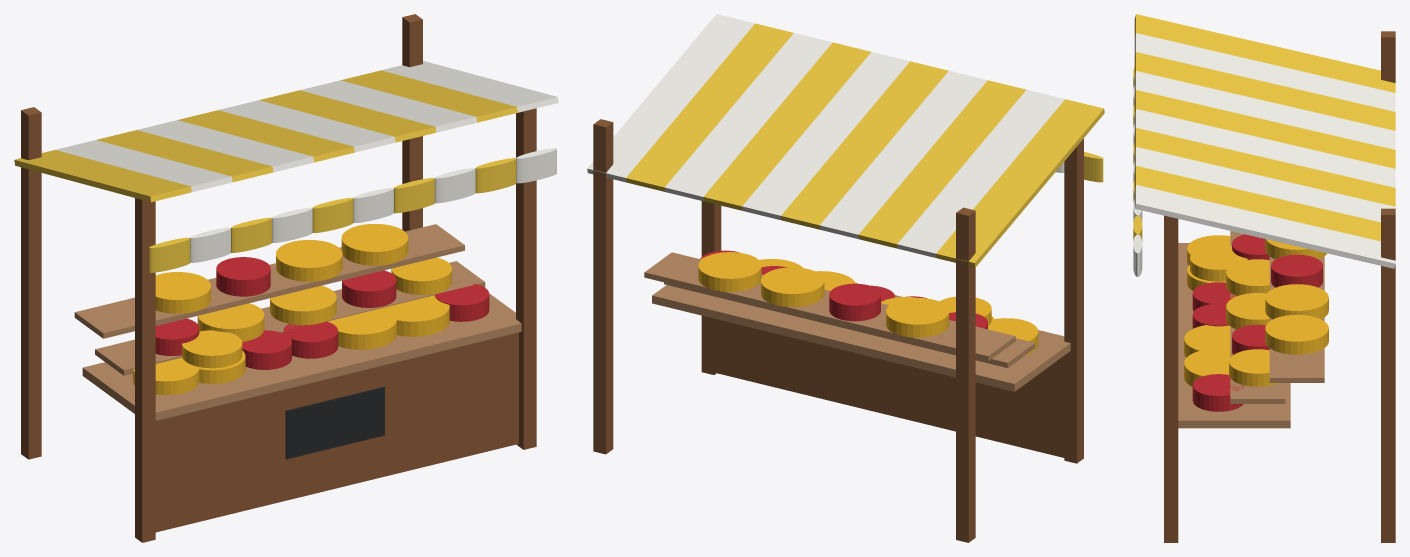
File: market-stall-cheese.glb
3 renders of one model, left to right at view 1: azimuth 30°, elevation 25°; view 2: azimuth 150°, elevation 25°; view 3: azimuth 270°, elevation 25°, orthographic. The views are drawn at different scales.
Visible parts, largest first — view 1: Cube.005, Cube.004, Cube.001, Cube, Cube.002, Cube.007, Cube.008, Cube.009, Cube.013, Cube.014, Cube.017, Cube.010 (+34 smaller); view 2: Cube.005, Cube.004, Cube.013, Cube.016, Cube.017, Cube.011, Cube.014, Cube.015, Cube.012, Cube.009, Cube.010, Cube.018 (+11 smaller); view 3: Cube.018, Cube.012, Cube.011, Cube.013, Cube.010, Cube.015, Cube.014, Cube.009, Cube.016, Cube.003, Cube.002, Cube.017 (+21 smaller).
Part boxes in pixels (left/top/right/bottom): Cube.005: left=155, top=332, right=518, bottom=532; Cube.004: left=82, top=293, right=521, bottom=420; Cube.001: left=21, top=107, right=41, bottom=459; Cube: left=135, top=198, right=155, bottom=542; Cube.002: left=516, top=108, right=536, bottom=449; Cube.007: left=74, top=224, right=464, bottom=338; Cube.008: left=285, top=386, right=384, bottom=459; Cube.009: left=14, top=150, right=191, bottom=202; Cube.013: left=178, top=110, right=354, bottom=162; Cube.014: left=218, top=100, right=395, bottom=152; Cube.017: left=341, top=70, right=517, bottom=122; Cube.010: left=55, top=140, right=232, bottom=192; Cube.005: left=712, top=318, right=1064, bottom=457; Cube.004: left=652, top=285, right=1070, bottom=391; Cube.013: left=781, top=61, right=948, bottom=229; Cube.016: left=664, top=33, right=832, bottom=201; Cube.017: left=626, top=23, right=793, bottom=191; Cube.011: left=858, top=80, right=1025, bottom=248; Cube.014: left=742, top=52, right=909, bottom=220; Cube.015: left=703, top=42, right=871, bottom=210; Cube.012: left=819, top=71, right=987, bottom=239; Cube.009: left=936, top=99, right=1104, bottom=267; Cube.010: left=897, top=89, right=1064, bottom=257; Cube.018: left=587, top=14, right=754, bottom=182; Cube.018: left=1134, top=185, right=1395, bottom=268; Cube.012: left=1134, top=71, right=1395, bottom=149; Cube.011: left=1134, top=52, right=1395, bottom=130; Cube.013: left=1134, top=90, right=1395, bottom=168; Cube.010: left=1134, top=33, right=1395, bottom=111; Cube.015: left=1134, top=128, right=1395, bottom=206; Cube.014: left=1134, top=109, right=1395, bottom=187; Cube.009: left=1134, top=14, right=1395, bottom=92; Cube.016: left=1134, top=147, right=1395, bottom=222; Cube.003: left=1381, top=208, right=1395, bottom=542; Cube.002: left=1164, top=215, right=1178, bottom=542; Cube.017: left=1134, top=166, right=1380, bottom=241.
Bounding box in the file's own units: 3.1 × 2.61 × 1.81.
